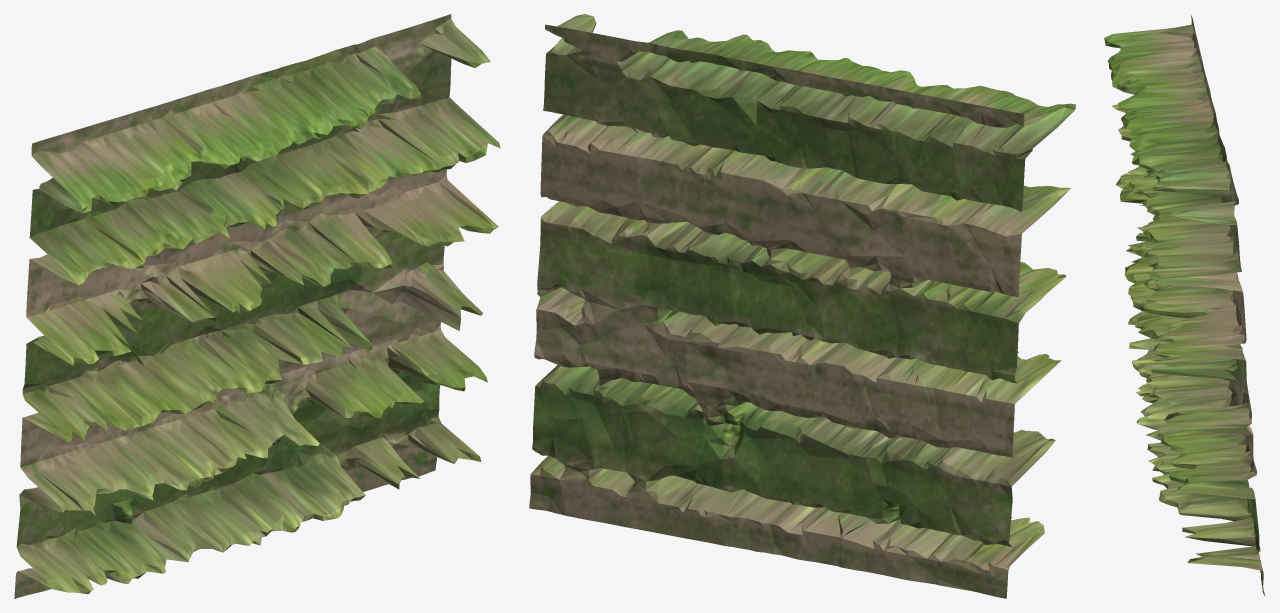
File: map_70_40.obj
3 renders of one model, left to right at view 1: azimuth 30°, elevation 25°; view 2: azimuth 150°, elevation 25°; view 3: azimuth 270°, elevation 25°, orthographic. The views are drawn at different scales.
Visible parts, largest first — view 1: grp1; view 2: grp1; view 3: grp1.
Boxes of the visible parts, box(x1,y1,x2,y2) form: grp1: box(14, 14, 500, 598); grp1: box(529, 14, 1075, 598); grp1: box(1104, 15, 1265, 596).
Size of the model in its own units: 10 by 10 by 3.68.
1 material, 1 textured.
